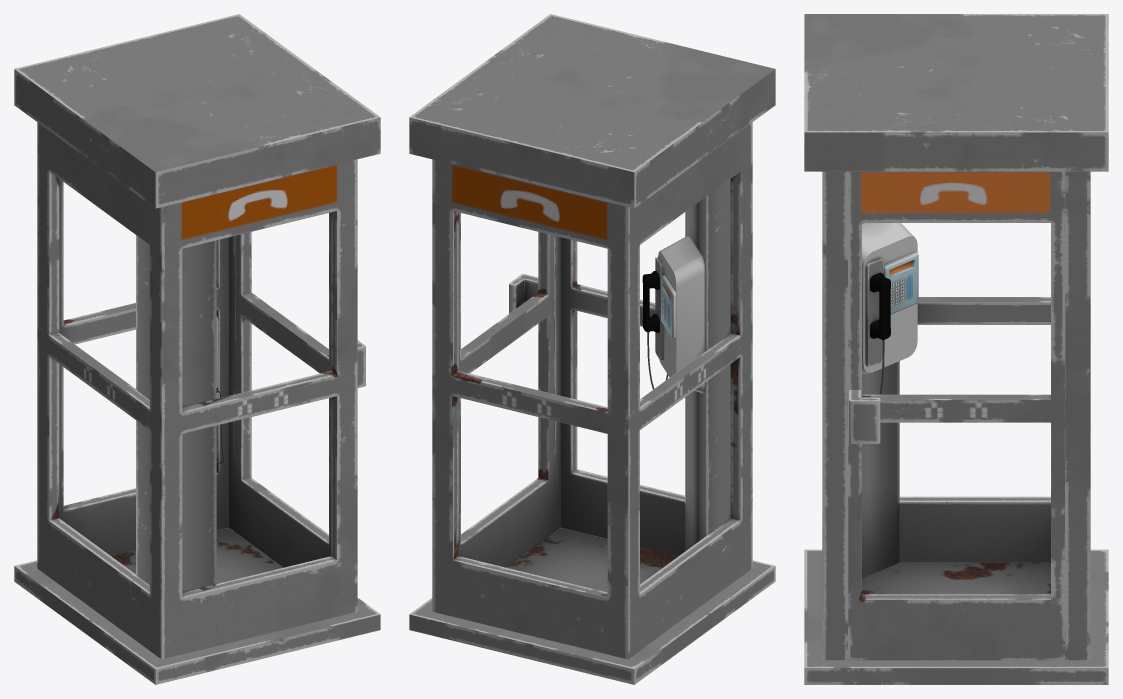
The model's file is Phone.fbx.
3 views of the same model, side by side, from view 1: azimuth 30°, elevation 25°; view 2: azimuth 150°, elevation 25°; view 3: azimuth 270°, elevation 25° (orthographic). The views are drawn at different scales.
Visible parts, largest first — view 1: Phone; view 2: Phone; view 3: Phone.
Part boxes in pixels (x1,y1,x2,y2): Phone: (14, 14, 380, 684); Phone: (409, 14, 775, 684); Phone: (804, 14, 1108, 684).
Size of the model in its own units: 99.41 by 210 by 105.
